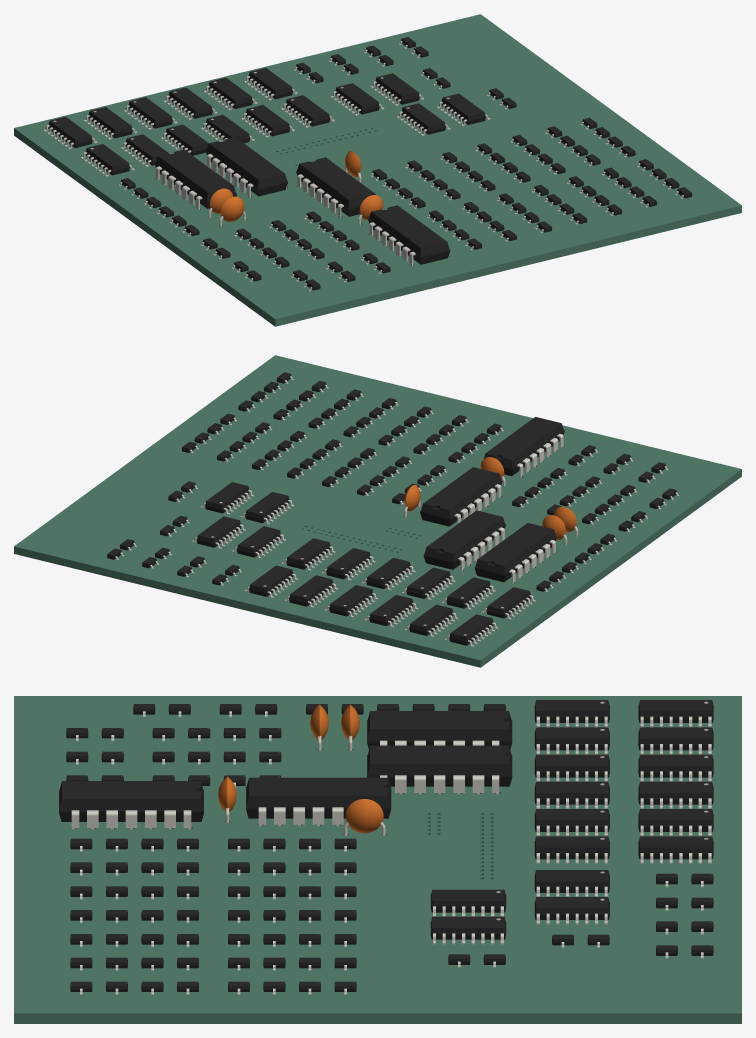
File: main_logic.glb
The picture shows the model from 3 angles, top to bottom: view 1: azimuth 30°, elevation 25°; view 2: azimuth 150°, elevation 25°; view 3: azimuth 270°, elevation 25°; orthographic projection. The views are drawn at different scales.
Parts seen in each view (by area): view 1: =>[0:1:1:6], U2001, U3802, U2002, U3801, U1804, U1906, U2101, U1905, U1803, U2102, U1901 (+10 smaller); view 2: =>[0:1:1:6], U3801, U3802, U2002, U2001, U1805, U1901, U1904, U1806, U2502, U2501, U1902 (+9 smaller); view 3: =>[0:1:1:6], U2001, U3802, U2002, U3801, U2102, U2101, U1806, U1804, U1803, U1802, U1902 (+13 smaller).
Part boxes in pixels (left/top/right/bottom): =>[0:1:1:6]: left=14, top=14, right=741, bottom=326; U2001: left=368, top=205, right=450, bottom=265; U3802: left=206, top=137, right=287, bottom=197; U2002: left=296, top=157, right=375, bottom=217; U3801: left=154, top=149, right=236, bottom=209; U1804: left=163, top=87, right=217, bottom=120; U1906: left=281, top=95, right=334, bottom=127; U2101: left=396, top=103, right=450, bottom=136; U1905: left=241, top=105, right=294, bottom=137; U1803: left=123, top=97, right=177, bottom=129; U2102: left=436, top=93, right=490, bottom=126; U1901: left=80, top=144, right=134, bottom=176; =>[0:1:1:6]: left=14, top=355, right=741, bottom=667; U3801: left=474, top=523, right=556, bottom=583; U3802: left=423, top=510, right=505, bottom=570; U2002: left=420, top=467, right=502, bottom=526; U2001: left=483, top=417, right=564, bottom=477; U1805: left=284, top=575, right=338, bottom=608; U1901: left=482, top=587, right=535, bottom=619; U1904: left=361, top=558, right=415, bottom=590; U1806: left=244, top=565, right=298, bottom=598; U2502: left=192, top=516, right=245, bottom=549; U2501: left=232, top=526, right=285, bottom=558; U1902: left=442, top=577, right=495, bottom=609; =>[0:1:1:6]: left=14, top=696, right=741, bottom=1023; U2001: left=59, top=781, right=203, bottom=829; U3802: left=367, top=745, right=512, bottom=794; U2002: left=246, top=777, right=391, bottom=826; U3801: left=367, top=711, right=512, bottom=749; U2102: left=430, top=916, right=506, bottom=944; U2101: left=430, top=889, right=506, bottom=916; U1806: left=638, top=836, right=713, bottom=863; U1804: left=638, top=781, right=713, bottom=808; U1803: left=638, top=754, right=713, bottom=781; U1802: left=638, top=727, right=713, bottom=754; U1902: left=534, top=727, right=609, bottom=754.
Size of the model in its own units: 0.0985 by 0.00839 by 0.0955.
